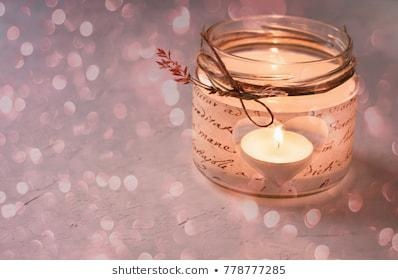fire: (271, 123, 286, 147)
